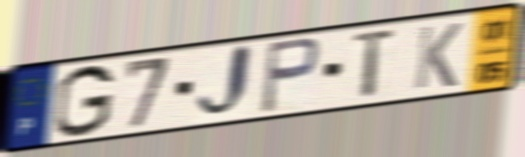7: (122, 54, 173, 132)
G: (52, 62, 118, 140)
J: (193, 41, 255, 125)
K: (411, 20, 465, 92)
P: (257, 35, 323, 116)
T: (350, 25, 400, 103)
